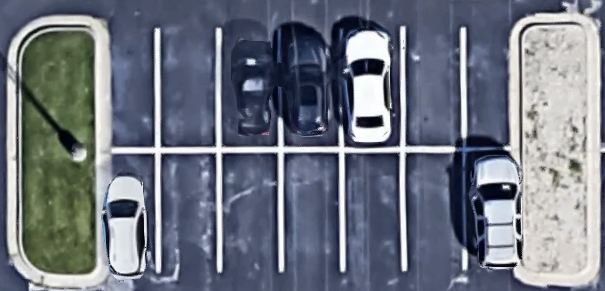Occupied: (218, 29, 281, 150), (341, 29, 403, 151), (281, 29, 342, 150), (100, 151, 158, 274), (465, 150, 518, 274)
Vacant: (218, 150, 282, 273), (340, 149, 404, 271), (156, 29, 220, 150), (403, 150, 466, 272), (158, 151, 220, 273), (282, 150, 343, 273), (404, 30, 465, 150), (99, 27, 158, 150), (463, 29, 515, 149)
